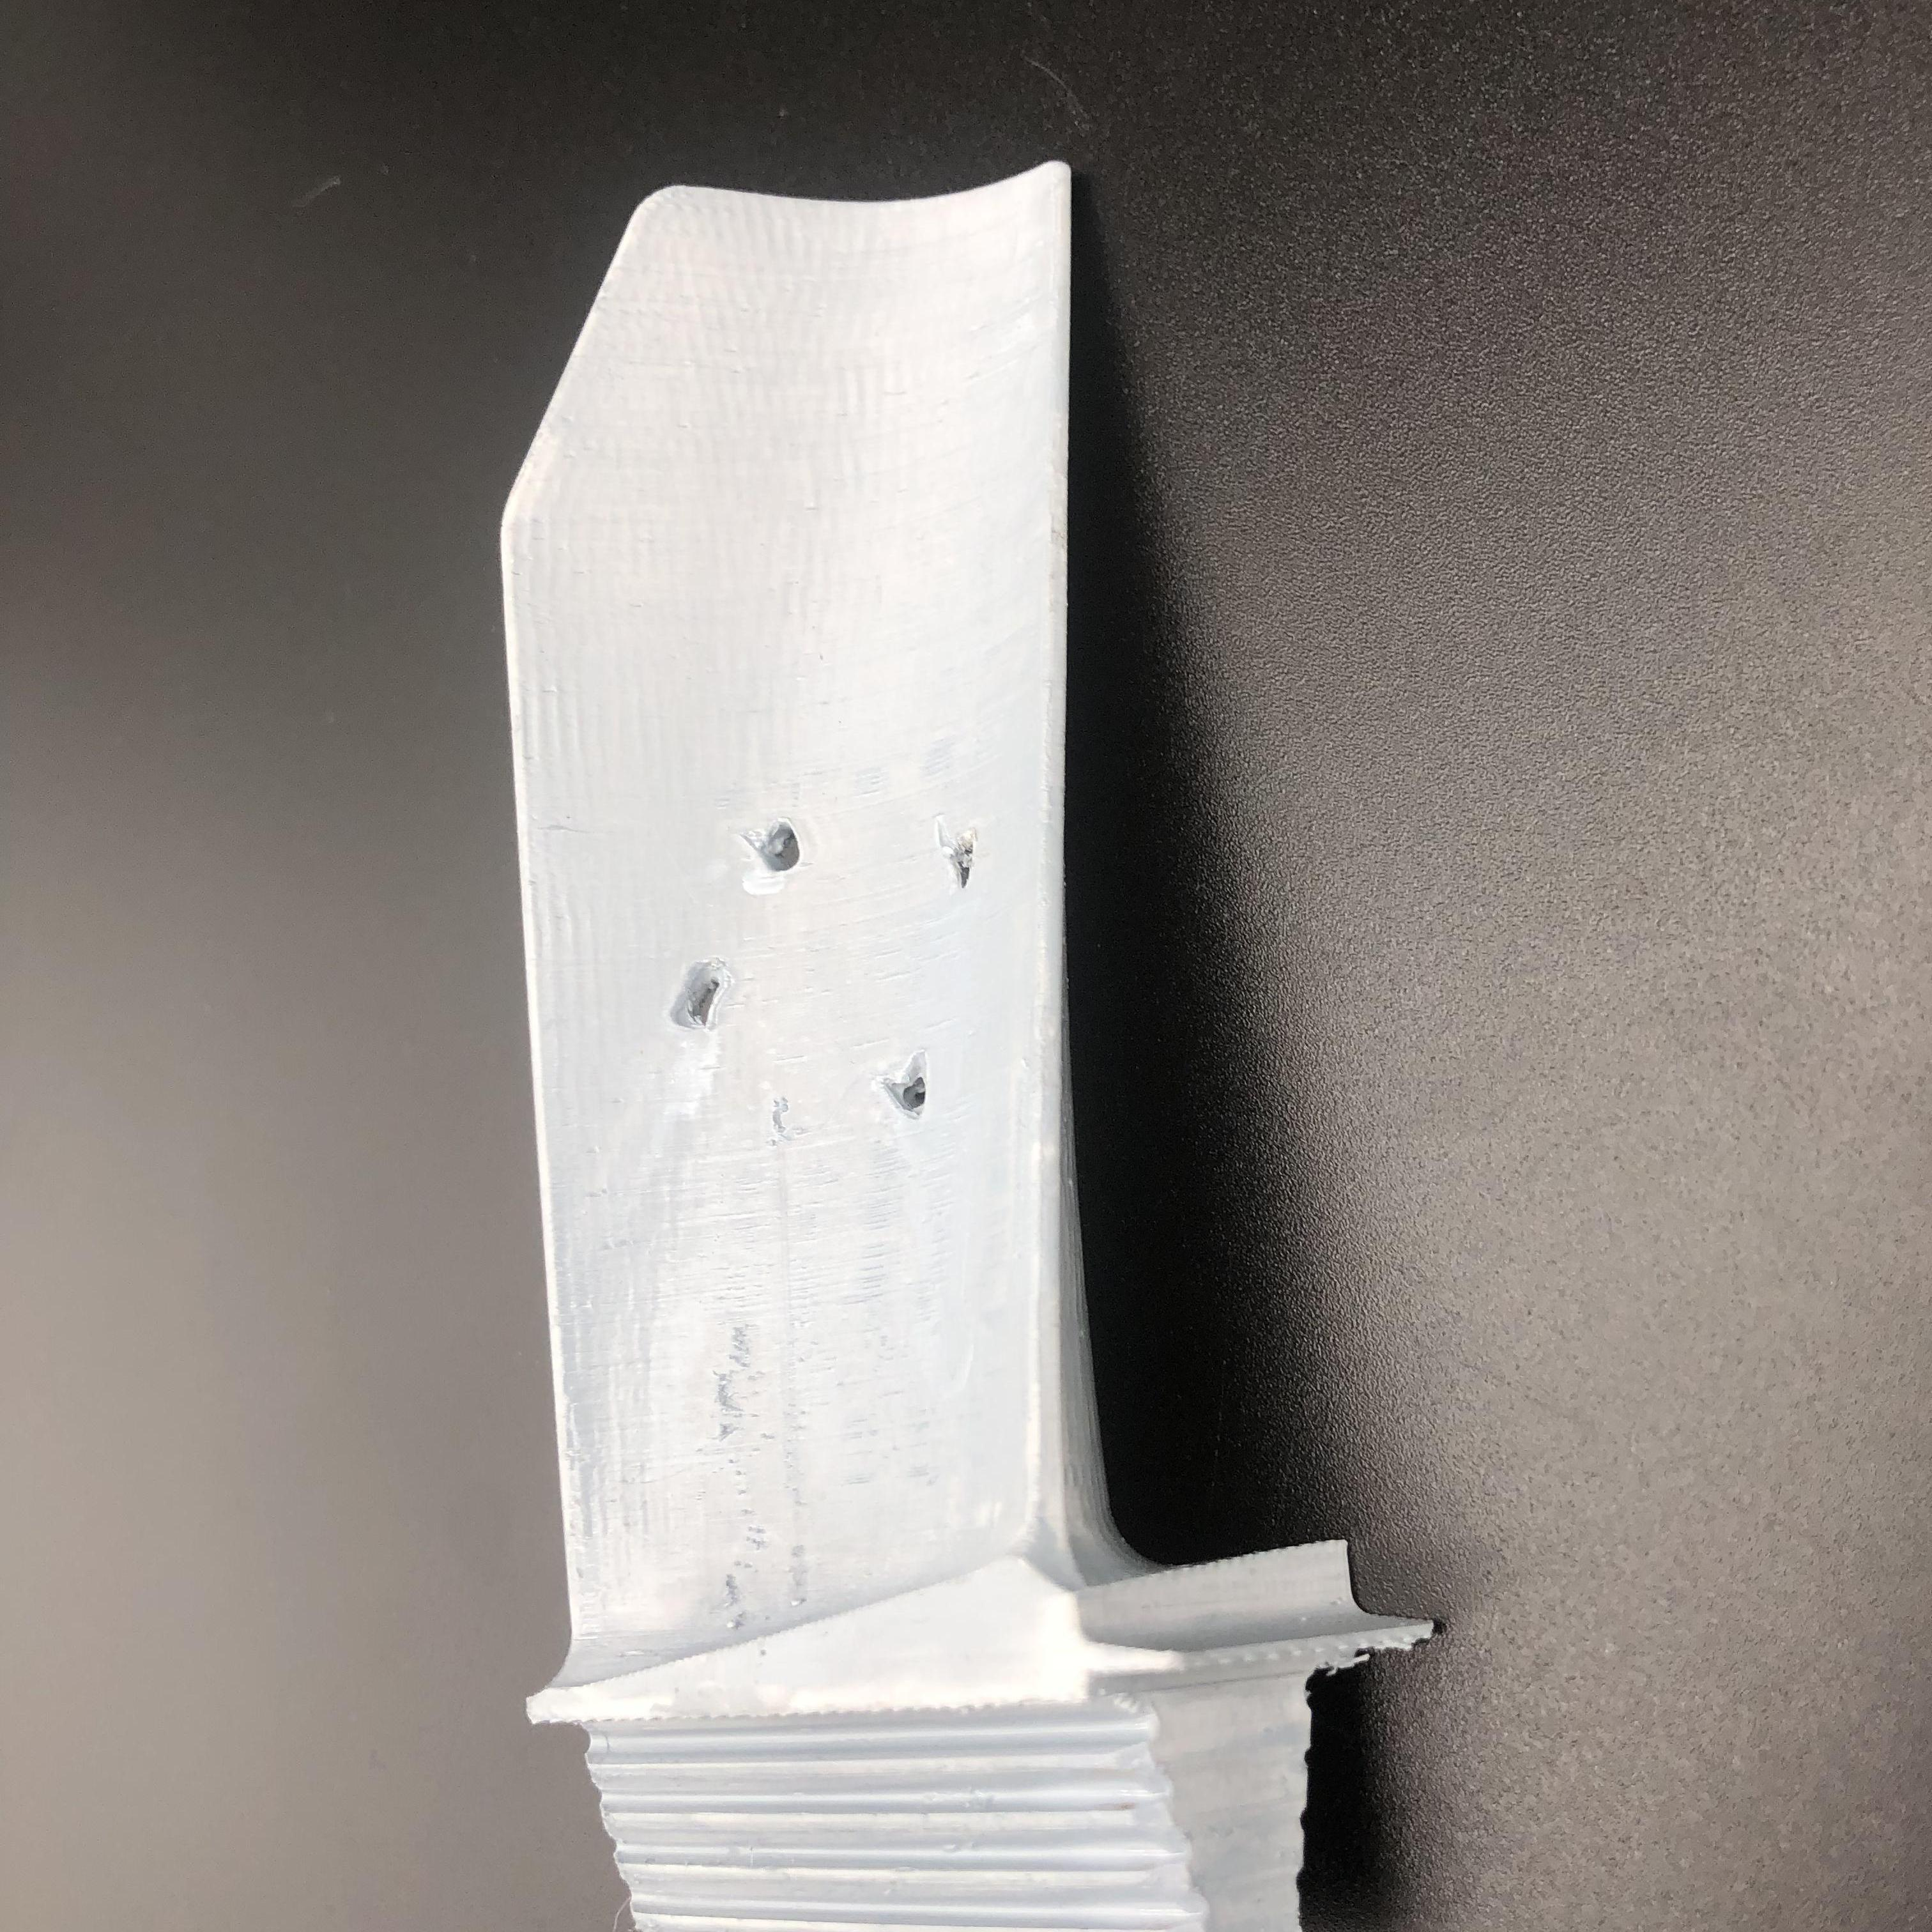breakdown: (669, 826, 984, 1127)
